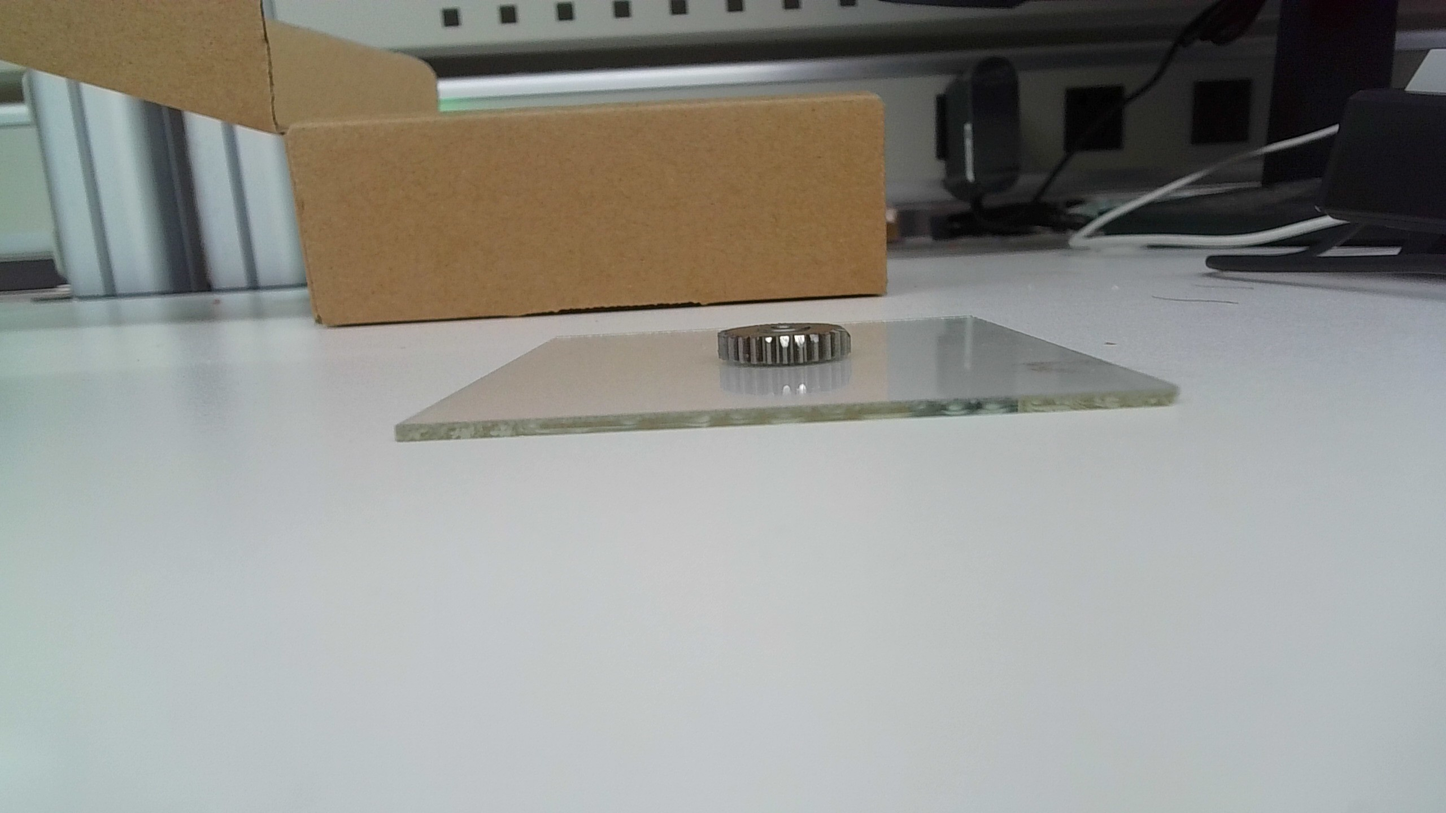gear: (714, 321, 855, 367)
